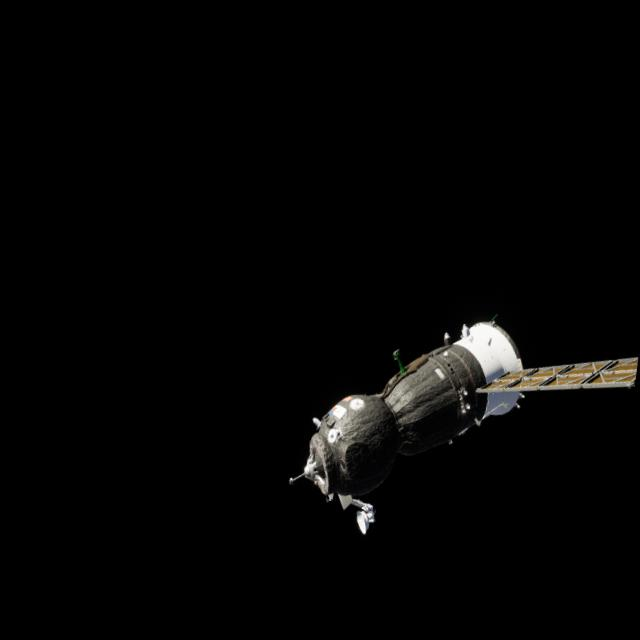Satellites revolving around earth: (280, 288, 640, 568)
